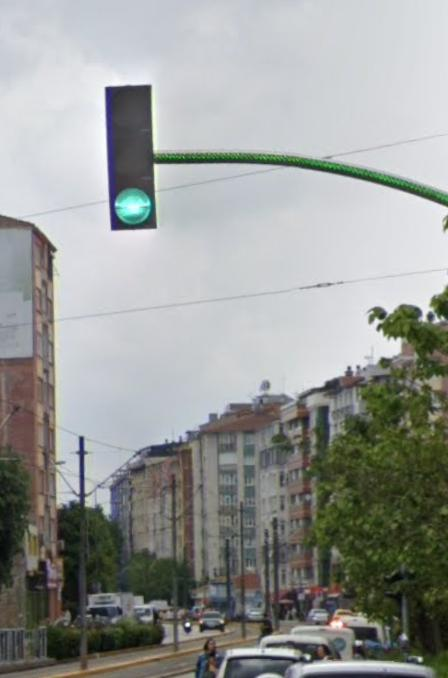greenlight: (105, 80, 160, 237)
